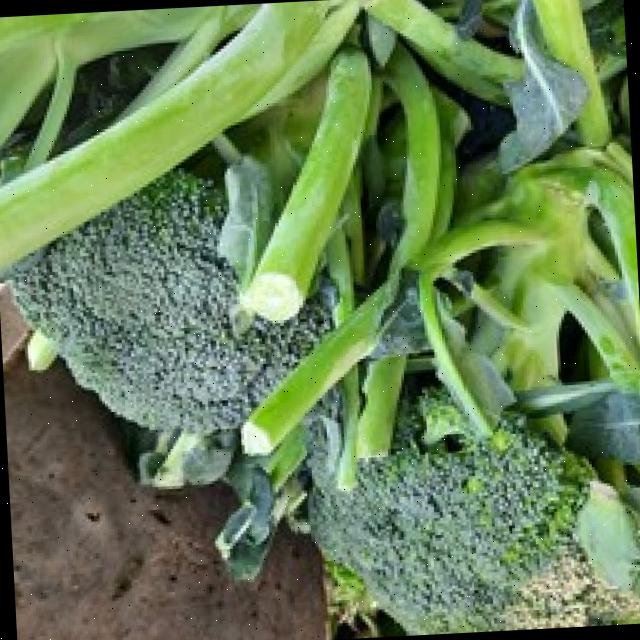Broccoli: (9, 169, 330, 429), (9, 169, 330, 429), (309, 388, 591, 633), (309, 388, 591, 633), (503, 543, 640, 631), (503, 543, 640, 631)
